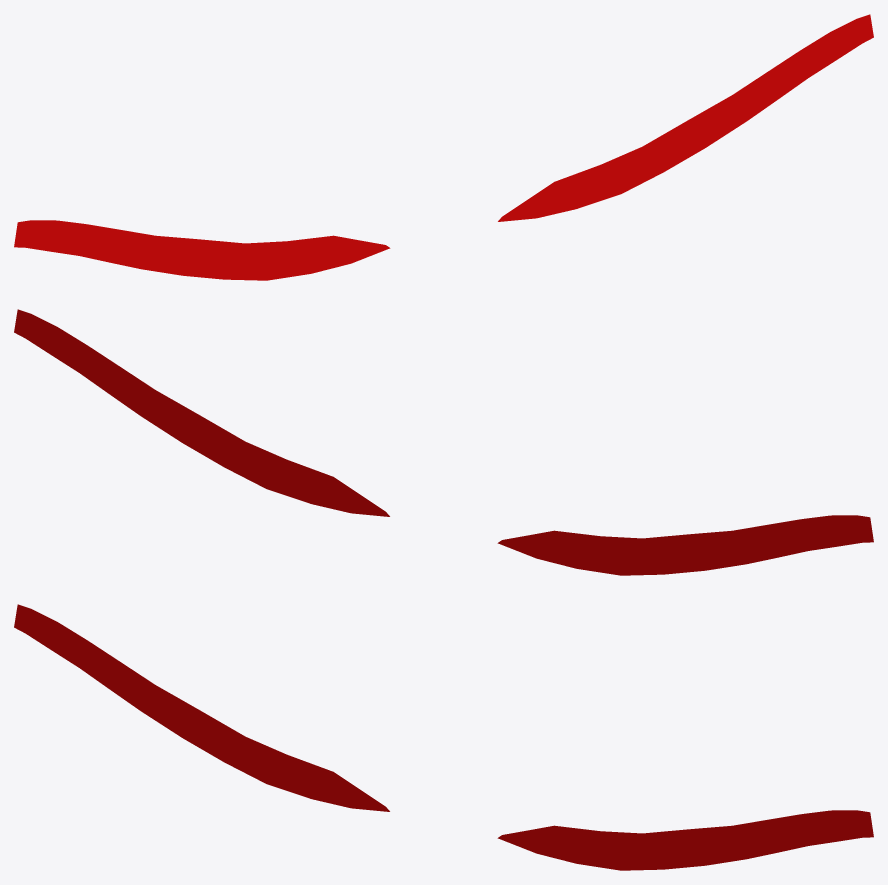
File: frame108.fbx
3 renders of one model, top to bottom at view 1: azimuth 30°, elevation 25°; view 2: azimuth 150°, elevation 25°; view 3: azimuth 330°, elevation 25°, orthographic.
Visible parts, largest first — view 1: MaterialLayer; view 2: MaterialLayer; view 3: MaterialLayer.
Part boxes in pixels (<box>): MaterialLayer: <box>14,14,873,280</box>; MaterialLayer: <box>14,309,873,575</box>; MaterialLayer: <box>14,604,873,870</box>.
Bounding box in the file's own units: 1378 × 189 × 1.46e-11.
